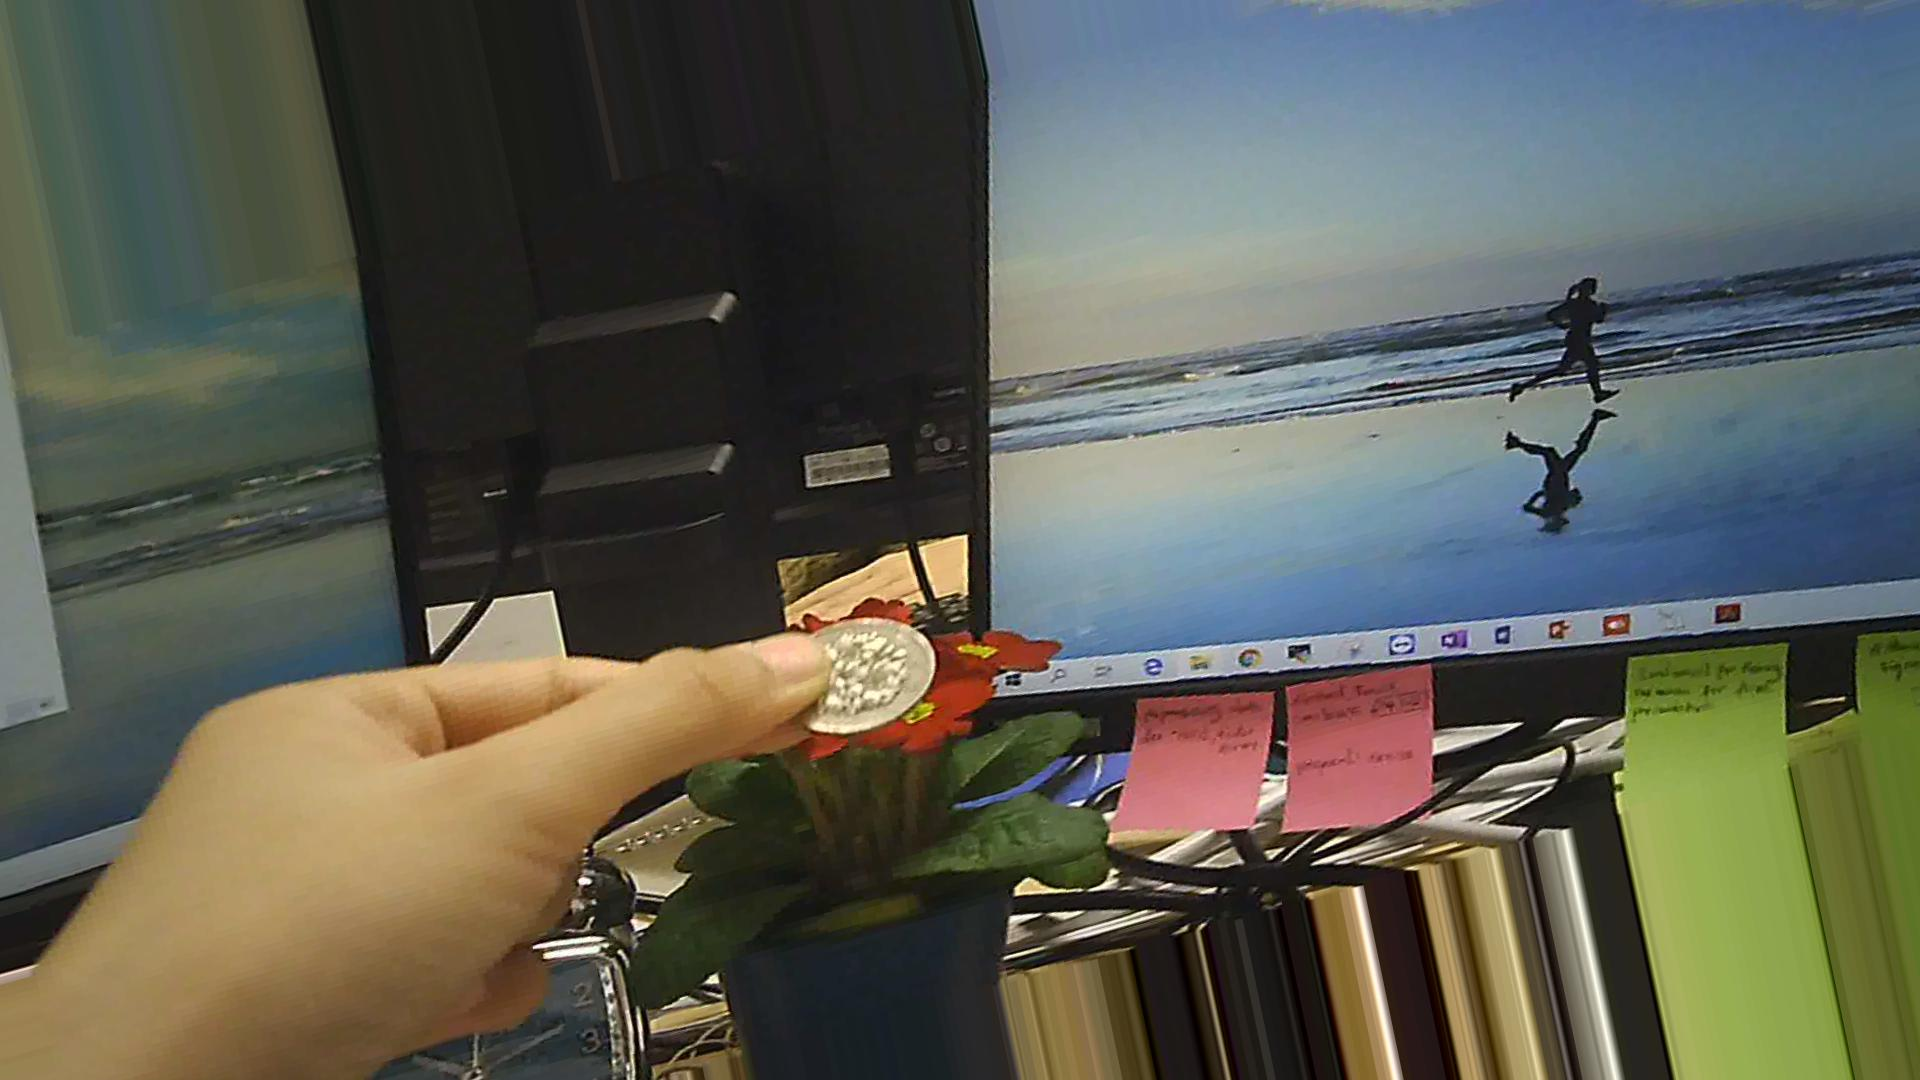100 Yen: (781, 612, 928, 733)
